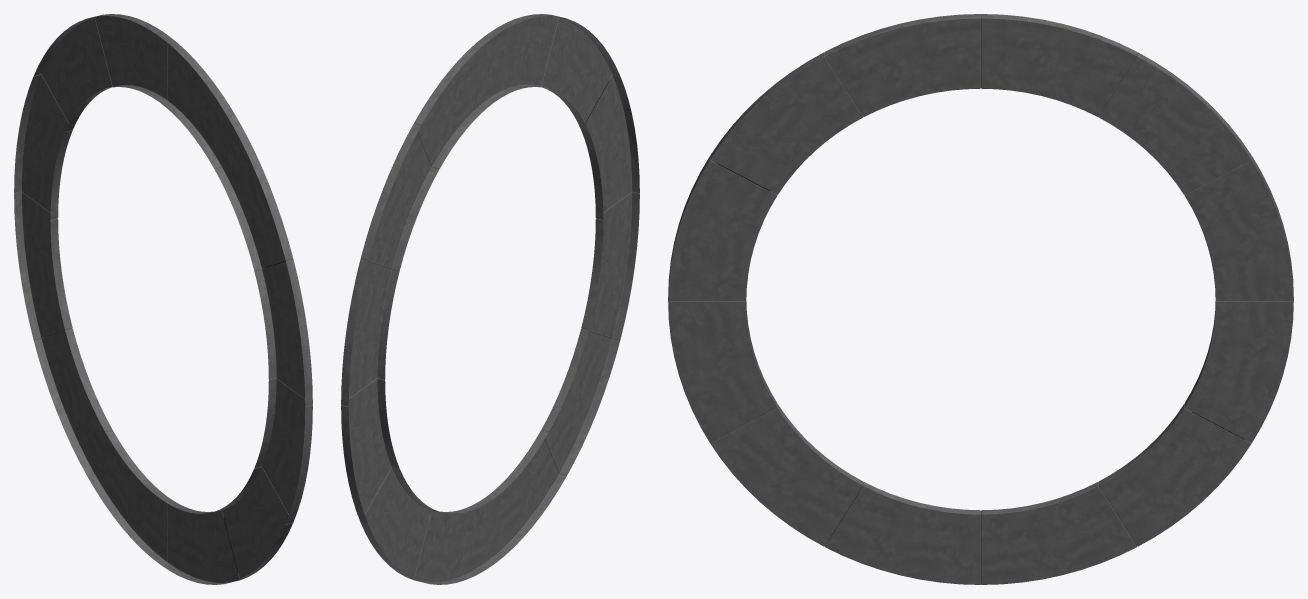
File: cP_Pathway04_01.dae
The picture shows the model from 3 angles, left to right: view 1: azimuth 30°, elevation 25°; view 2: azimuth 150°, elevation 25°; view 3: azimuth 270°, elevation 25°; orthographic projection. The views are drawn at different scales.
Parts seen in each view (by area): view 1: cP_Pathway04_01.001; view 2: cP_Pathway04_01.001; view 3: cP_Pathway04_01.001.
Boxes of the visible parts, x1,y1,x2,y2 form: cP_Pathway04_01.001: (14, 14, 312, 584); cP_Pathway04_01.001: (341, 14, 639, 584); cP_Pathway04_01.001: (668, 14, 1293, 584).
Size of the model in its own units: 0.5 by 32.03 by 32.03.
